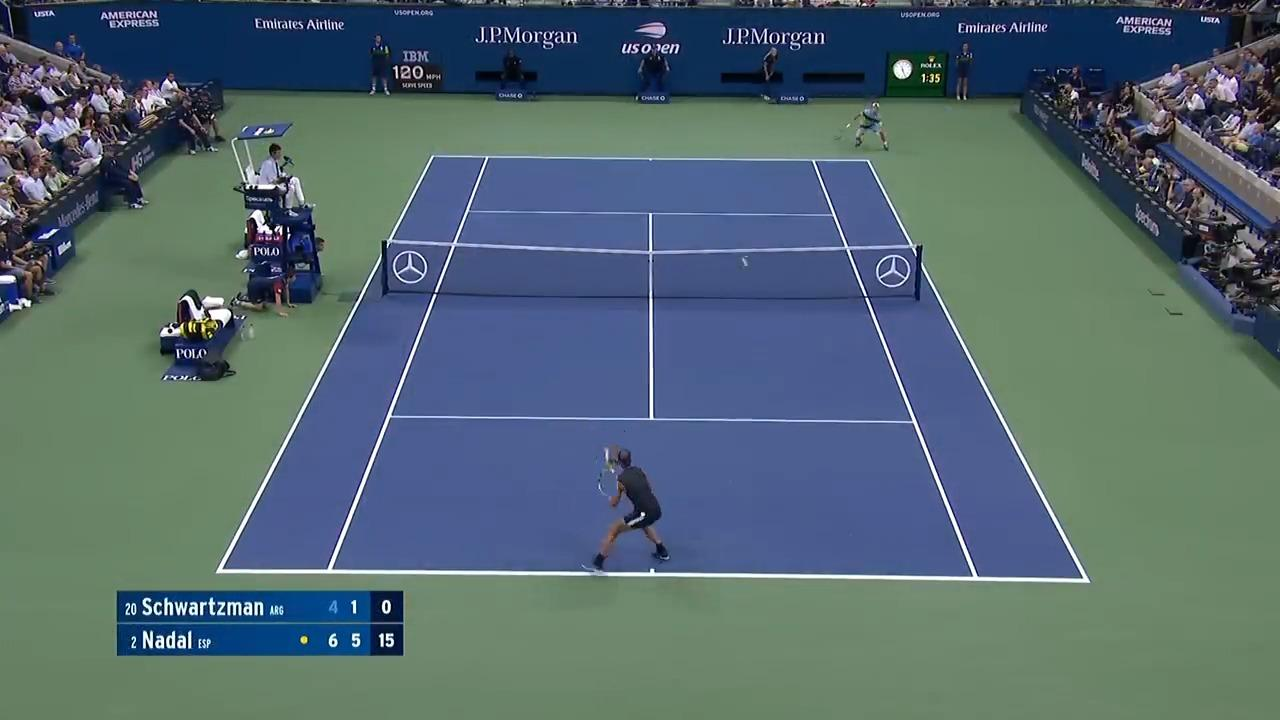tennis ball: (738, 257, 752, 266)
tennis racket: (597, 445, 618, 496)
